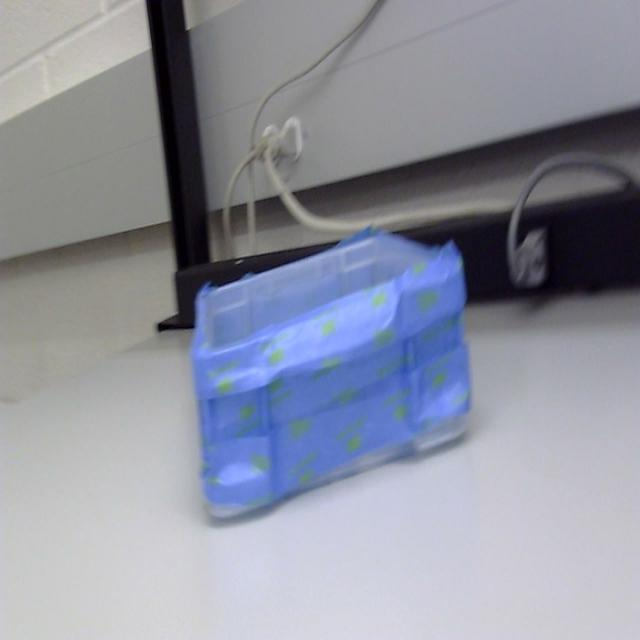bucket: (190, 232, 474, 526)
